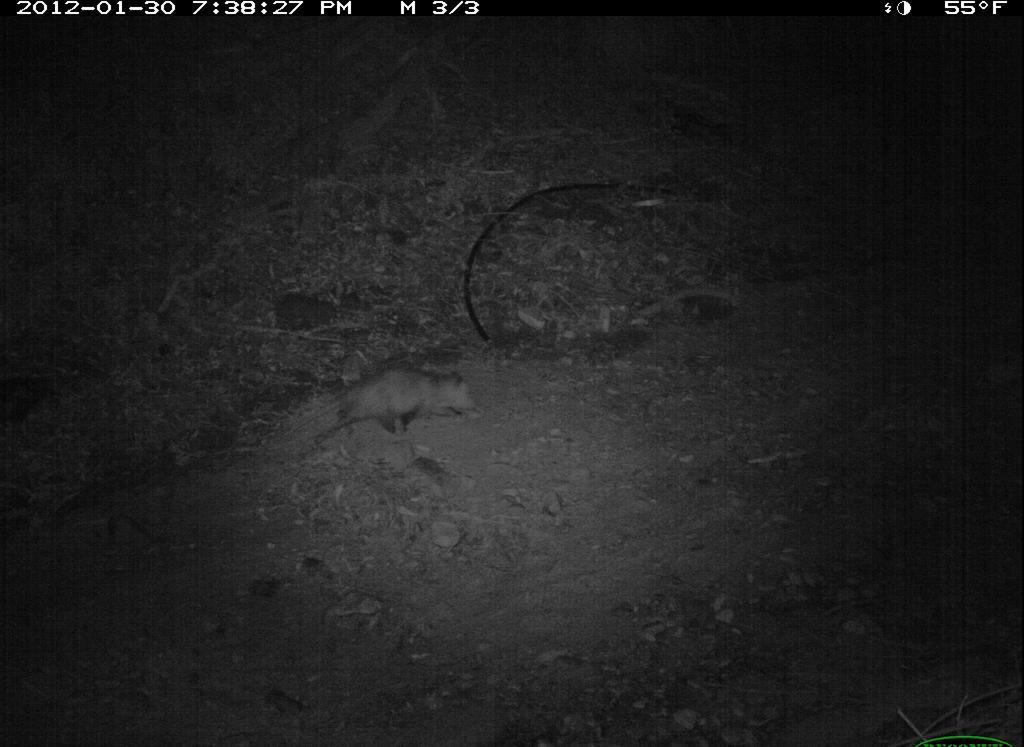opossum: (297, 367, 482, 454)
